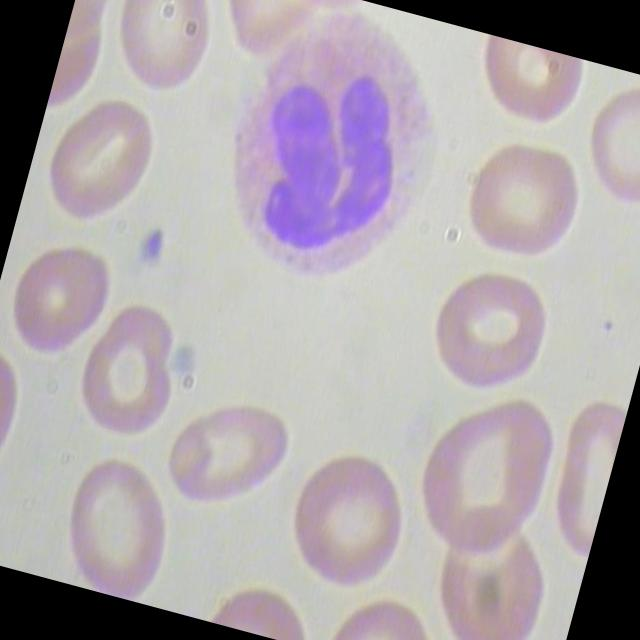Platelets: (122, 218, 172, 272)
RBC: (402, 375, 568, 568), (413, 251, 565, 414), (445, 121, 597, 284), (50, 294, 202, 456), (272, 441, 424, 602), (147, 380, 299, 540), (36, 446, 186, 606), (34, 85, 167, 242), (0, 226, 117, 379), (92, 0, 224, 107), (570, 66, 640, 222)
WBC: (189, 0, 474, 323)
